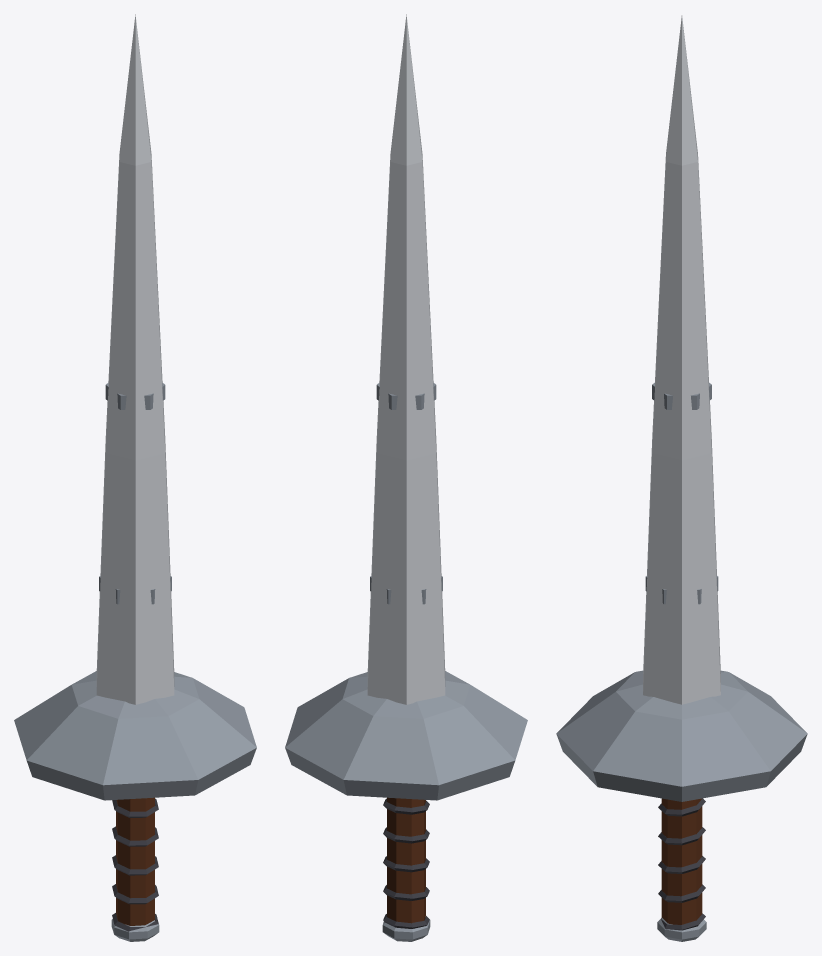
The model's file is IronLance.fbx.
3 renders of one model, left to right at view 1: azimuth 30°, elevation 25°; view 2: azimuth 150°, elevation 25°; view 3: azimuth 270°, elevation 25°, orthographic.
Parts seen in each view (by area): view 1: IronLance; view 2: IronLance; view 3: IronLance.
Boxes of the visible parts, x1,y1,x2,y2 form: IronLance: (14, 14, 256, 941); IronLance: (285, 14, 527, 941); IronLance: (556, 15, 807, 941).
Bounding box in the file's own units: 1.9 × 7.67 × 1.9.
Materials: 1 (1 with a texture image).
